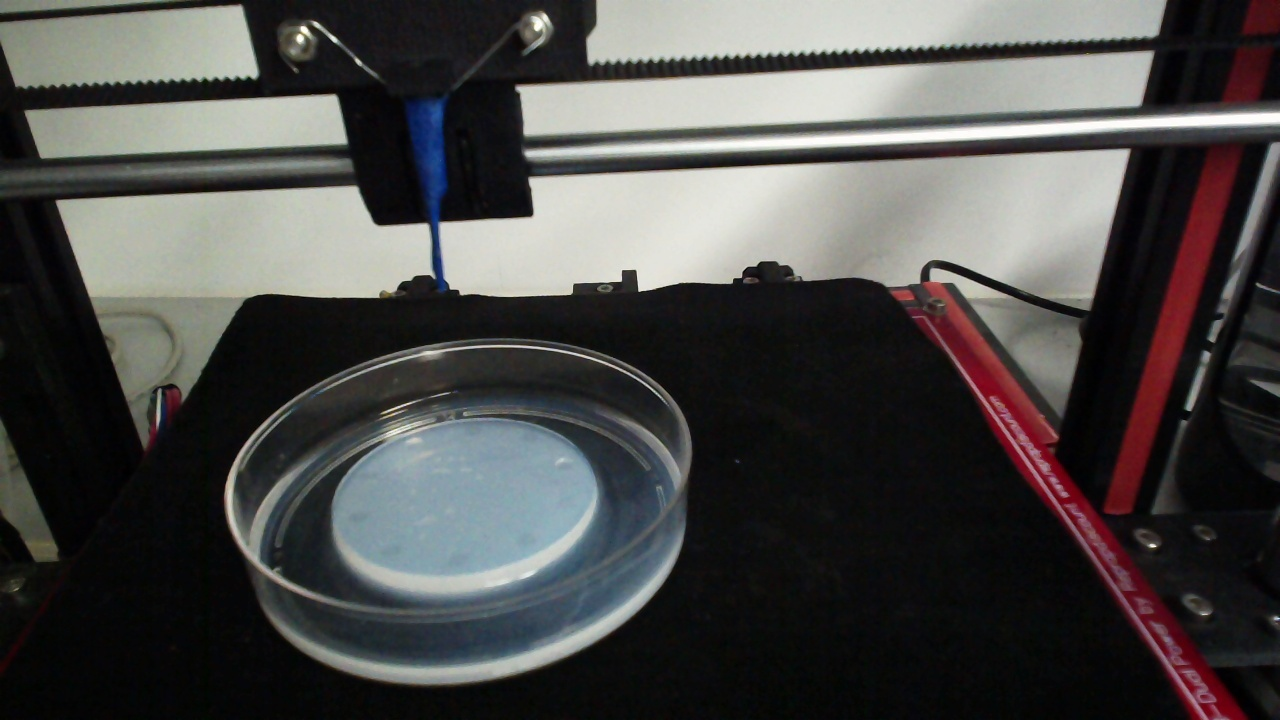groove: (515, 531, 537, 551), (346, 508, 371, 525), (379, 541, 401, 560), (446, 551, 469, 568), (556, 495, 579, 512), (358, 467, 380, 482), (554, 455, 574, 471), (403, 436, 424, 451), (518, 428, 539, 443), (461, 425, 483, 438)
needle: (403, 98, 443, 297)
